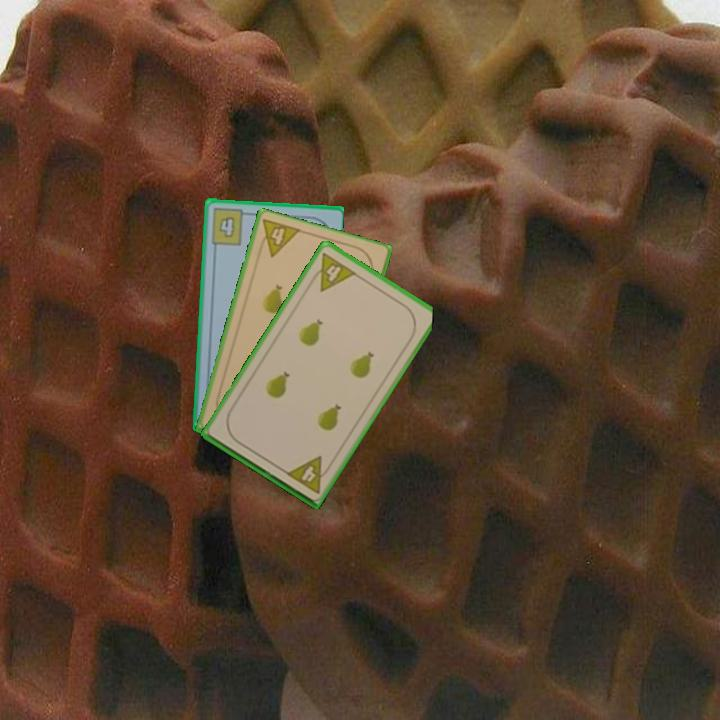4b: (207, 205, 252, 248)
4p: (305, 249, 359, 294), (282, 452, 335, 496), (253, 216, 303, 260)
